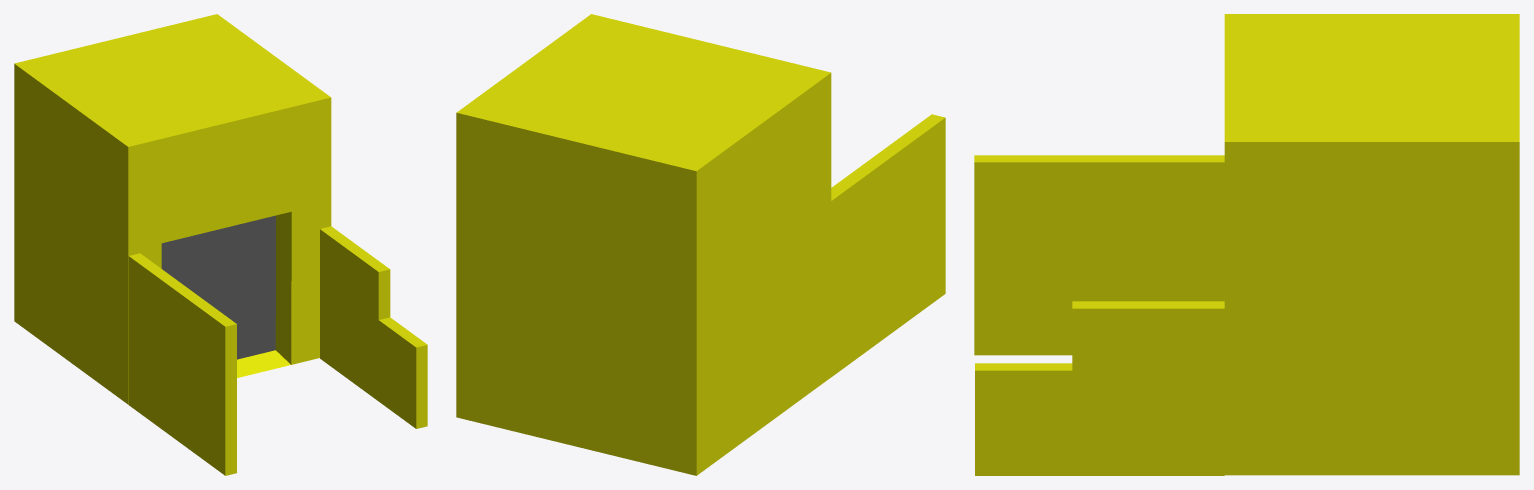
File: loja_4.fbx
The picture shows the model from 3 angles, left to right: view 1: azimuth 30°, elevation 25°; view 2: azimuth 150°, elevation 25°; view 3: azimuth 270°, elevation 25°; orthographic projection. The views are drawn at different scales.
Visible parts, largest first — view 1: Cube.002; view 2: Cube.002; view 3: Cube.002.
Part boxes in pixels (x1,y1,x2,y2): Cube.002: (14, 14, 427, 475); Cube.002: (456, 14, 945, 475); Cube.002: (974, 14, 1519, 475).
Bounding box in the file's own units: 627 × 762 × 1129.
